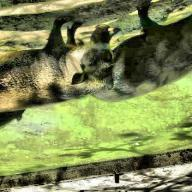boar: (0, 21, 122, 135), (85, 29, 190, 124)
